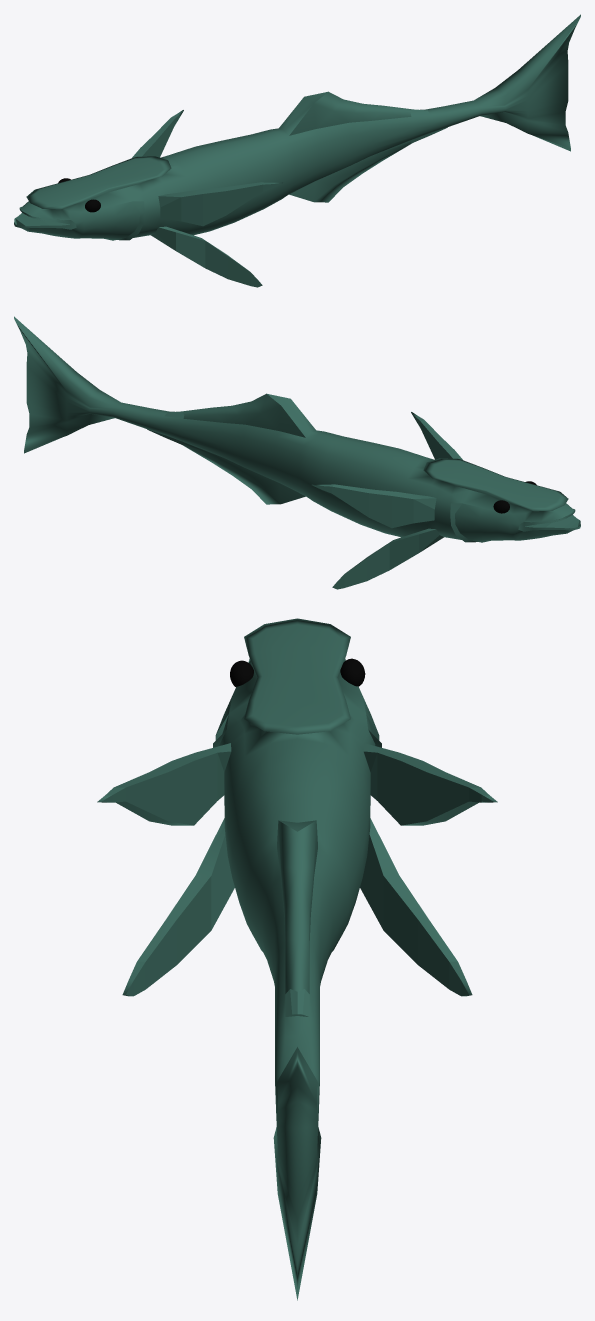
The model's file is RemoraUVWs (1).fbx.
The picture shows the model from 3 angles, top to bottom: view 1: azimuth 30°, elevation 25°; view 2: azimuth 150°, elevation 25°; view 3: azimuth 270°, elevation 25°; orthographic projection. The views are drawn at different scales.
Visible parts, largest first — view 1: Rem; view 2: Rem; view 3: Rem, Eyeeeee.
Boxes of the visible parts, x1,y1,x2,y2 form: Rem: [14, 14, 580, 287]; Rem: [14, 316, 580, 589]; Rem: [97, 618, 497, 1300]; Eyeeeee: [230, 658, 365, 686].
Bounding box in the file's own units: 43.42 × 11.22 × 13.32.
